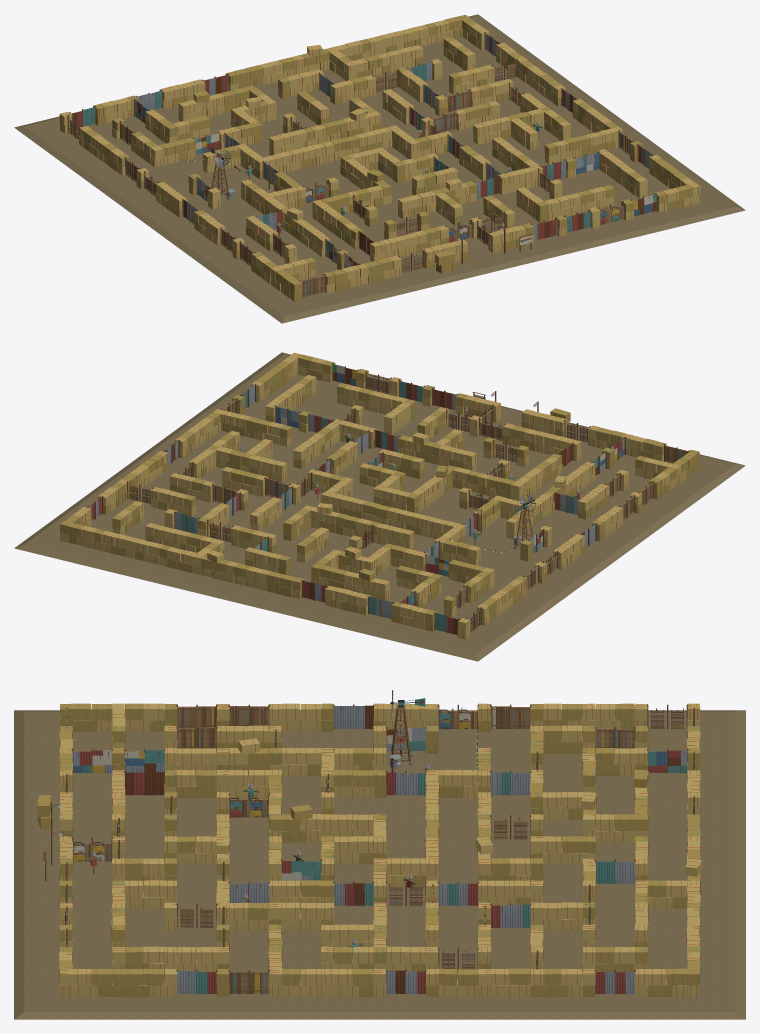
The model's file is haymaze.glb.
The picture shows the model from 3 angles, top to bottom: view 1: azimuth 30°, elevation 25°; view 2: azimuth 150°, elevation 25°; view 3: azimuth 270°, elevation 25°; orthographic projection. The views are drawn at different scales.
Parts seen in each view (by area): view 1: haymaze.001; view 2: haymaze.001; view 3: haymaze.001.
Boxes of the visible parts, left/top/right/bottom form: haymaze.001: left=14, top=14, right=745, bottom=323; haymaze.001: left=14, top=352, right=745, bottom=661; haymaze.001: left=14, top=690, right=745, bottom=1019.
Size of what is drawn, in the model's own units: 70 by 7.67 by 70.
Materials: 70 (68 with a texture image).
